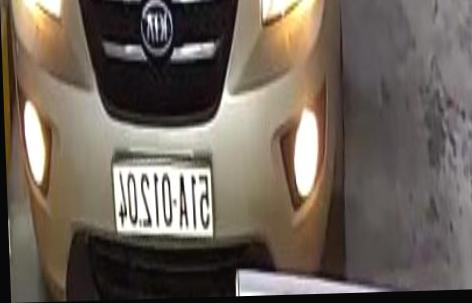License_Plate: (113, 152, 217, 240)
